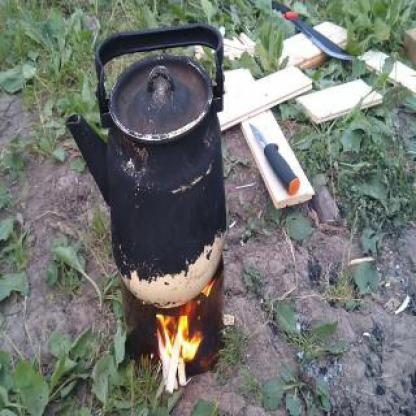fire: (150, 310, 206, 368)
